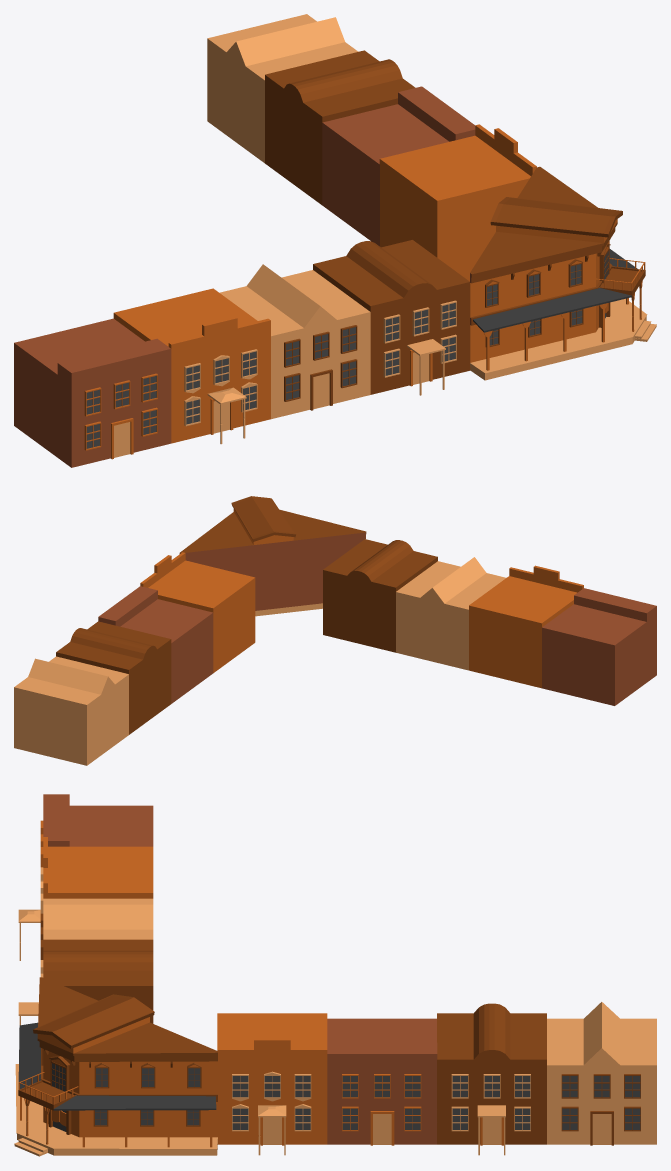
Rendered from Saloon angle_V3.glb.
The picture shows the model from 3 angles, top to bottom: view 1: azimuth 30°, elevation 25°; view 2: azimuth 150°, elevation 25°; view 3: azimuth 270°, elevation 25°; orthographic projection. The views are drawn at different scales.
Parts seen in each view (by area): view 1: Maison 4_Structure, Saloon_Maison, Maison 7_Structure, Maison 1_Structure, Maison 3_Structure, Maison 5_Structure, Maison 2_Structure, Maison 8_Structure8, Maison 6_Structure., Saloon_Maison socle, Saloon_Toit RDC, Maison 3_Fenetre array (+11 smaller); view 2: Saloon_Maison, Maison 4_Structure, Maison 6_Structure., Maison 3_Structure, Maison 1_Structure, Maison 2_Structure, Maison 7_Structure, Maison 5_Structure, Maison 8_Structure8, Saloon_Maison socle; view 3: Saloon_Maison, Maison 5_Structure, Maison 6_Structure., Maison 7_Structure, Maison 8_Structure8, Maison 1_Structure, Maison 3_Structure, Maison 4_Structure, Saloon_Maison socle, Maison 2_Structure, Saloon_Toit RDC, Maison 7_Fenetre array (+12 smaller).
Boxes of the visible parts, bbox=[...] form: Maison 4_Structure: bbox=[14, 318, 171, 467]; Saloon_Maison: bbox=[470, 166, 622, 362]; Maison 7_Structure: bbox=[379, 124, 536, 281]; Maison 1_Structure: bbox=[313, 240, 470, 394]; Maison 3_Structure: bbox=[113, 288, 270, 443]; Maison 5_Structure: bbox=[265, 50, 415, 204]; Maison 2_Structure: bbox=[219, 264, 370, 419]; Maison 8_Structure8: bbox=[322, 86, 475, 246]; Maison 6_Structure.: bbox=[207, 14, 358, 163]; Saloon_Maison socle: bbox=[470, 298, 656, 380]; Saloon_Toit RDC: bbox=[473, 249, 637, 332]; Maison 3_Fenetre array: bbox=[184, 349, 257, 426]; Saloon_Maison: bbox=[179, 496, 366, 610]; Maison 4_Structure: bbox=[542, 588, 656, 705]; Maison 6_Structure.: bbox=[14, 656, 128, 765]; Maison 3_Structure: bbox=[469, 565, 583, 688]; Maison 1_Structure: bbox=[323, 539, 437, 652]; Maison 2_Structure: bbox=[396, 557, 506, 670]; Maison 7_Structure: bbox=[140, 552, 255, 672]; Maison 5_Structure: bbox=[56, 621, 171, 734]; Maison 8_Structure8: bbox=[98, 586, 213, 703]; Saloon_Maison socle: bbox=[255, 603, 322, 616]; Saloon_Maison: bbox=[33, 977, 217, 1137]; Maison 5_Structure: bbox=[437, 1003, 546, 1144]; Maison 6_Structure.: bbox=[547, 1002, 656, 1144]; Maison 7_Structure: bbox=[217, 1013, 327, 1144]; Maison 8_Structure8: bbox=[327, 1018, 437, 1144]; Maison 1_Structure: bbox=[43, 939, 153, 1023]; Maison 3_Structure: bbox=[43, 837, 153, 898]; Maison 4_Structure: bbox=[43, 794, 153, 846]; Saloon_Maison socle: bbox=[14, 1064, 217, 1156]; Maison 2_Structure: bbox=[43, 898, 153, 939]; Saloon_Toit RDC: bbox=[18, 1022, 216, 1110]; Maison 7_Fenetre array: bbox=[232, 1074, 311, 1131].
Size of the model in its own units: 38.09 by 7.17 by 38.05.
Materials: 4 (1 with a texture image).
